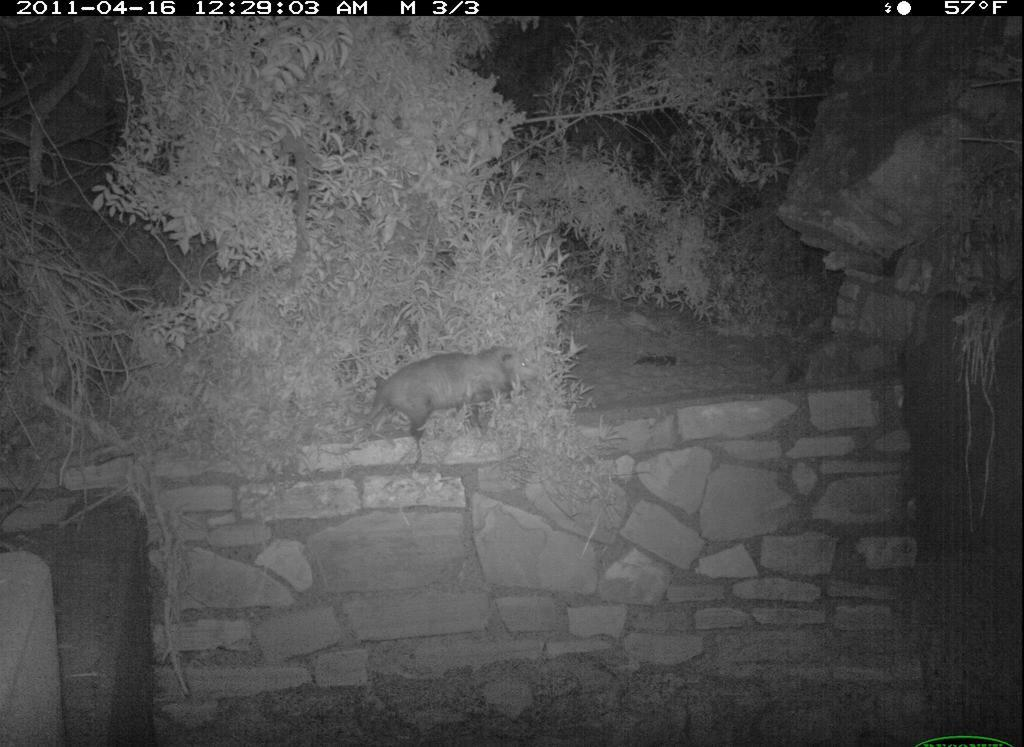opossum: (355, 342, 551, 452)
